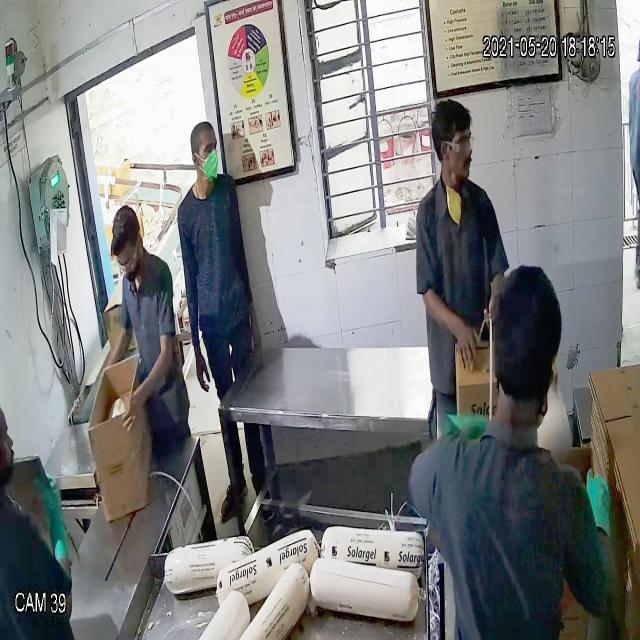glasses: (430, 132, 477, 160), (111, 248, 142, 273)
no-glass: (189, 140, 221, 164)
